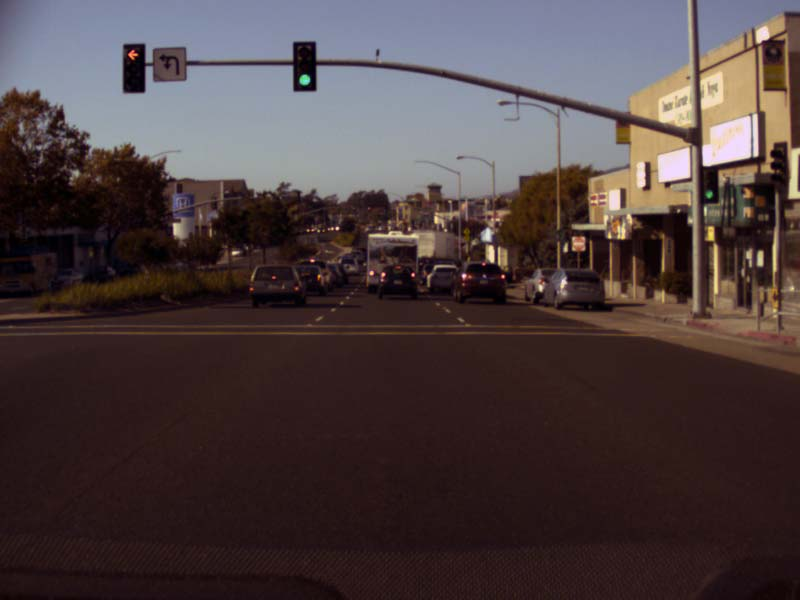Green: (293, 42, 315, 90), (699, 167, 717, 202)
Red: (123, 45, 143, 91)
